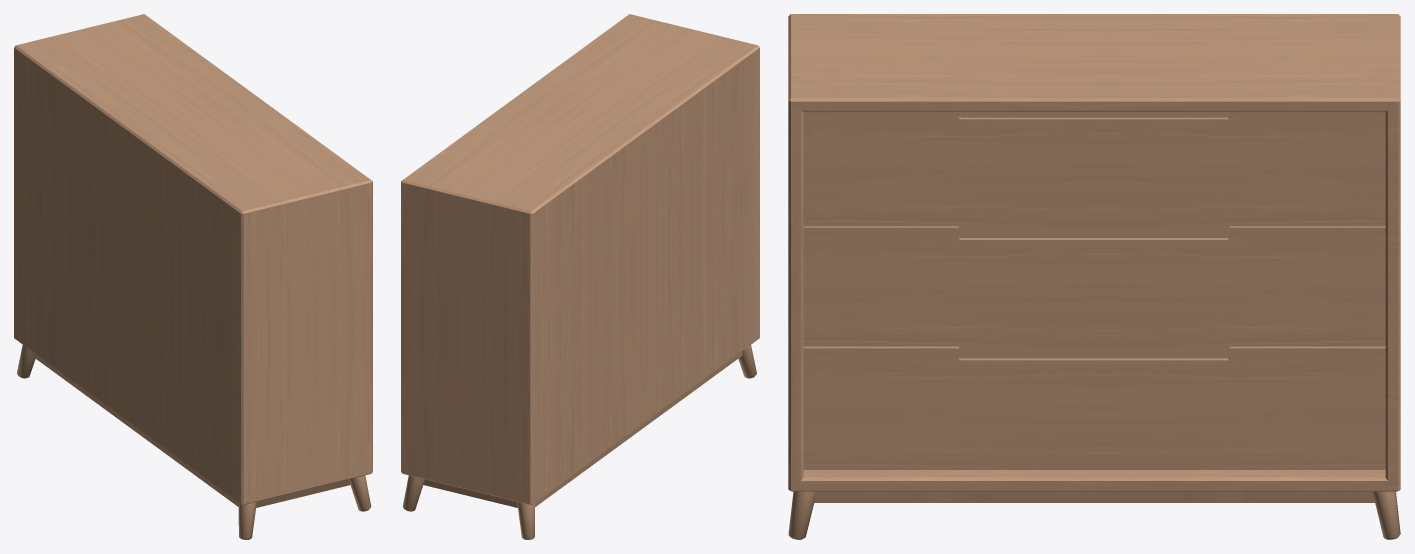
Rendered from wardrobe_1.glb.
3 views of the same model, side by side, from view 1: azimuth 30°, elevation 25°; view 2: azimuth 150°, elevation 25°; view 3: azimuth 270°, elevation 25° (orthographic). The views are drawn at different scales.
Visible parts, largest first — view 1: wardrobe 1; view 2: wardrobe 1; view 3: wardrobe 1, bottom drawer, middle drawer, top drawer.
Boxes of the visible parts, left/top/right/bottom form: wardrobe 1: left=14, top=14, right=372, bottom=539; wardrobe 1: left=401, top=14, right=759, bottom=539; wardrobe 1: left=788, top=14, right=1400, bottom=539; bottom drawer: left=803, top=346, right=1385, bottom=469; middle drawer: left=803, top=226, right=1385, bottom=346; top drawer: left=803, top=112, right=1385, bottom=226.
Size of the model in its own units: 0.8 by 1.92 by 2.4.
Materials: 1 (1 with a texture image).
